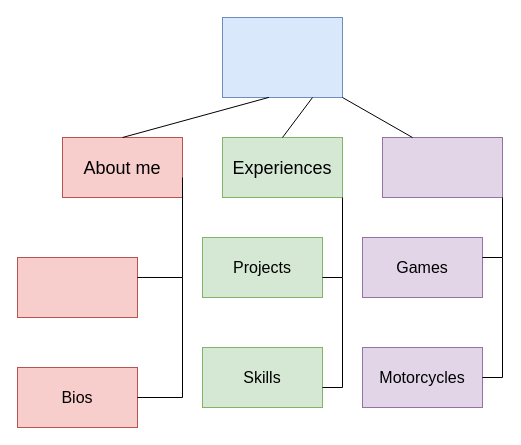
Image size: 521x445. Some labels were removed from this diagram. Each missing label, with the box of its shape:
Hobby/Others: (382, 136, 502, 198)
HOME: (222, 16, 342, 98)
My Story: (16, 256, 138, 318)
